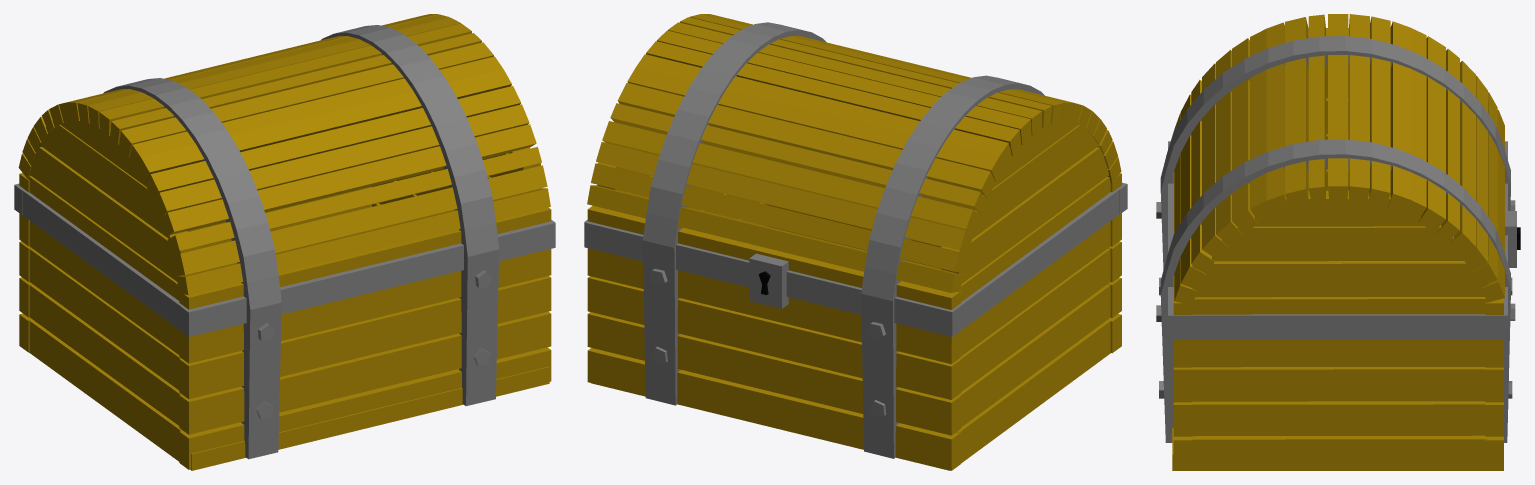
The model's file is chest_closed.glb.
3 renders of one model, left to right at view 1: azimuth 30°, elevation 25°; view 2: azimuth 150°, elevation 25°; view 3: azimuth 270°, elevation 25°, orthographic. The views are drawn at different scales.
Visible parts, largest first — view 1: ChestLocked; view 2: ChestLocked; view 3: ChestLocked.
Part boxes in pixels (left/top/right/bottom): ChestLocked: left=14, top=14, right=555, bottom=470; ChestLocked: left=584, top=14, right=1127, bottom=470; ChestLocked: left=1156, top=14, right=1520, bottom=470.
Size of the model in its own units: 0.709 by 0.5494 by 0.6261.
